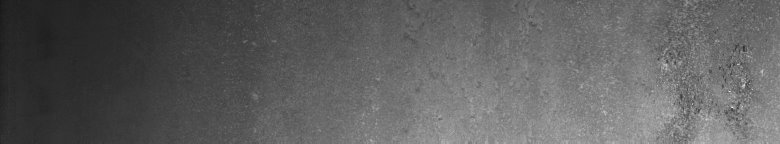hc: (664, 45, 751, 119)
